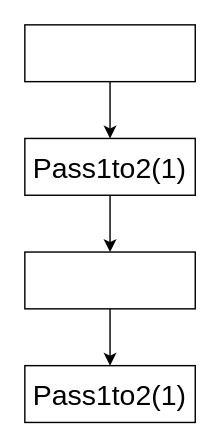
Image size: 220x447. Some labels were removed from this diagram. Here are the shapes that lost their labels. From the top down, the box of each, then its label:
(23, 23, 195, 82): Start(1)
(23, 251, 195, 309): Pass2to1(1)
